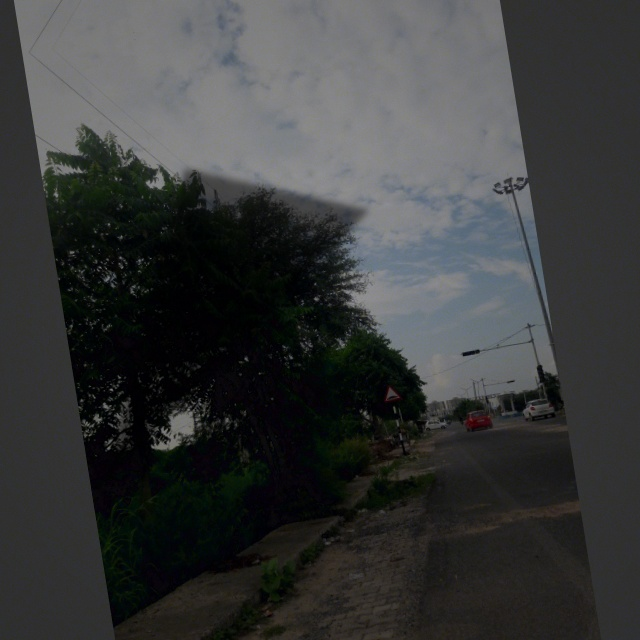Hump_or_Rough_Road: (376, 375, 405, 409)
